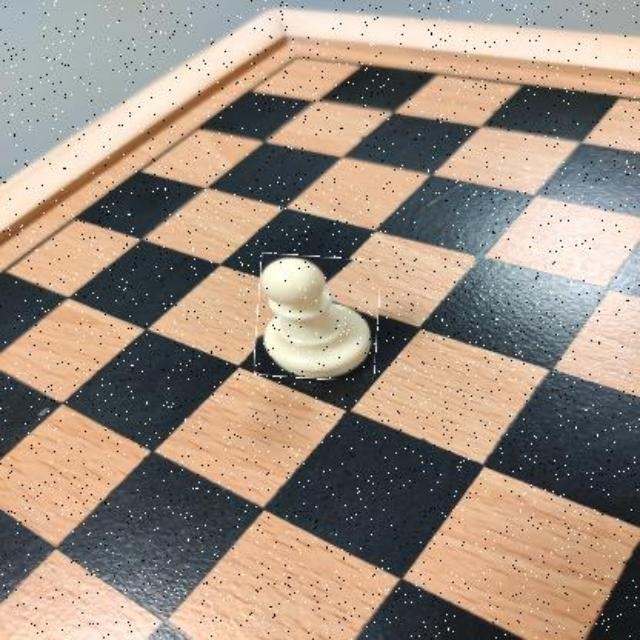white-pawn: (256, 255, 380, 381)
